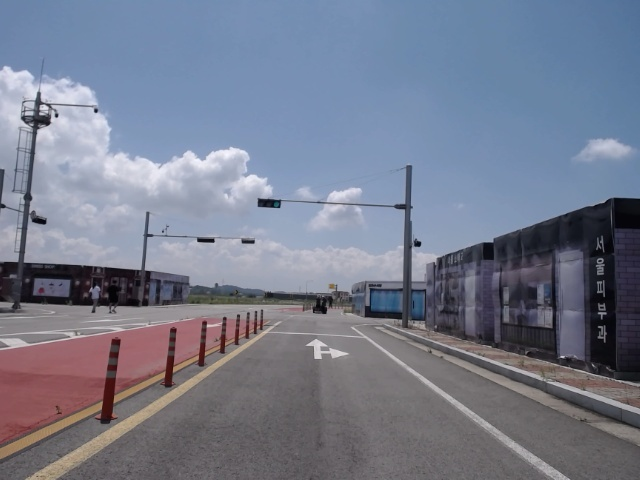green_3: (259, 199, 279, 208)
